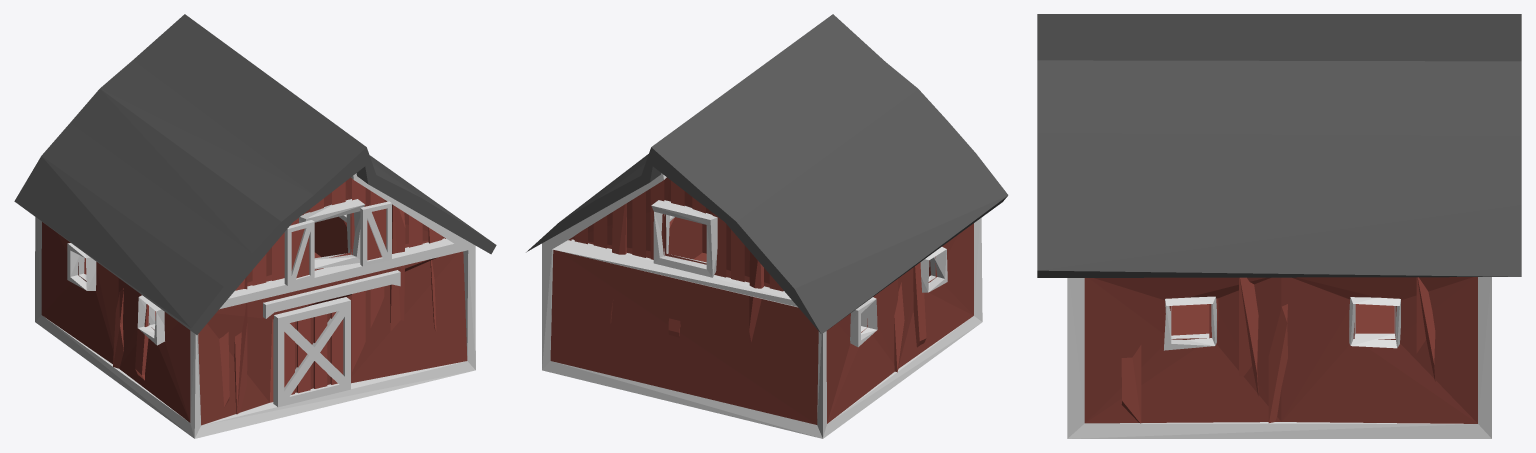
File: SmallBarn.lod1.glb
3 views of the same model, side by side, from view 1: azimuth 30°, elevation 25°; view 2: azimuth 150°, elevation 25°; view 3: azimuth 270°, elevation 25° (orthographic). The views are drawn at different scales.
Parts seen in each view (by area): view 1: Small_Barn, Small_Barn_Door, SmallBarn_Window, SmallBarn_Window2; view 2: Small_Barn; view 3: Small_Barn.
Boxes of the visible parts, x1,y1,x2,y2 form: Small_Barn: (14,14,496,438); Small_Barn_Door: (273,297,350,407); SmallBarn_Window: (360,201,391,266); SmallBarn_Window2: (284,220,314,285); Small_Barn: (526,14,1008,438); Small_Barn: (1037,14,1521,438).
Bounding box in the file's own units: 6.08 × 4.96 × 6.27.
